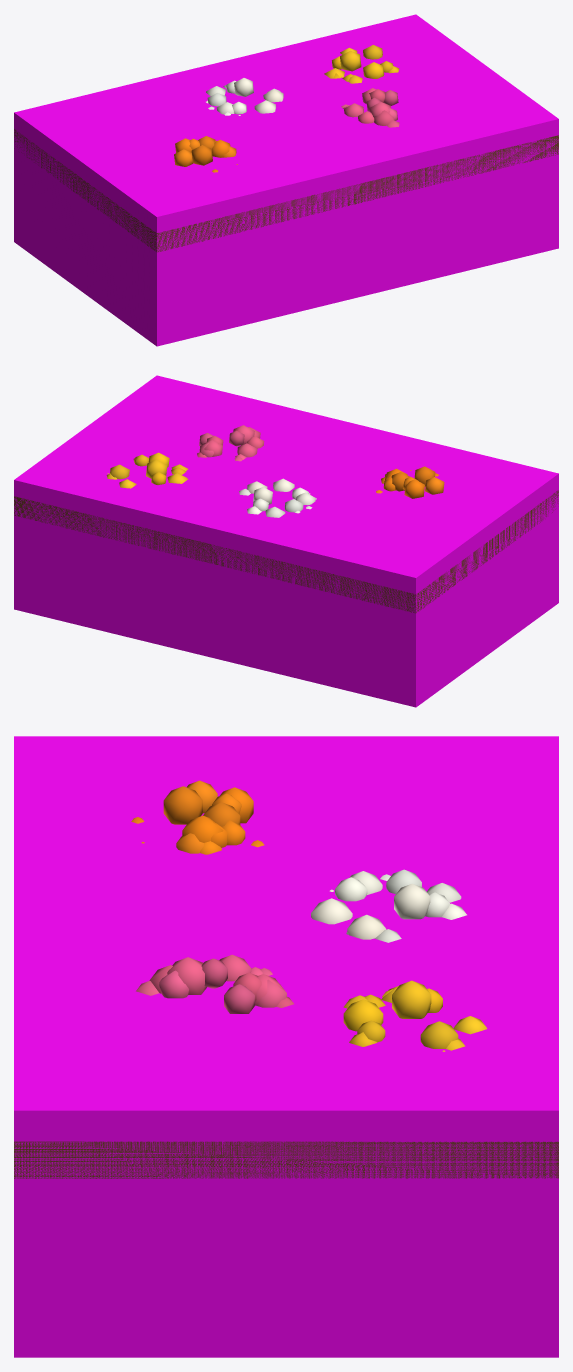
Rendered from PRP_Garland_Station_A.glb.
3 renders of one model, top to bottom at view 1: azimuth 30°, elevation 25°; view 2: azimuth 150°, elevation 25°; view 3: azimuth 270°, elevation 25°, orthographic. The views are drawn at different scales.
Parts seen in each view (by area): view 1: COL_Table, PRP_Garland_Station_A_Mesh; view 2: COL_Table, PRP_Garland_Station_A_Mesh; view 3: COL_Table, PRP_Garland_Station_A_Mesh.
Part boxes in pixels (x1,y1,x2,y2): COL_Table: (14, 14, 558, 346); PRP_Garland_Station_A_Mesh: (14, 45, 558, 252); COL_Table: (14, 375, 558, 707); PRP_Garland_Station_A_Mesh: (14, 425, 558, 613); COL_Table: (14, 736, 558, 1357); PRP_Garland_Station_A_Mesh: (14, 780, 558, 1178).
Size of the model in its own units: 1.3 by 0.4549 by 0.8.
